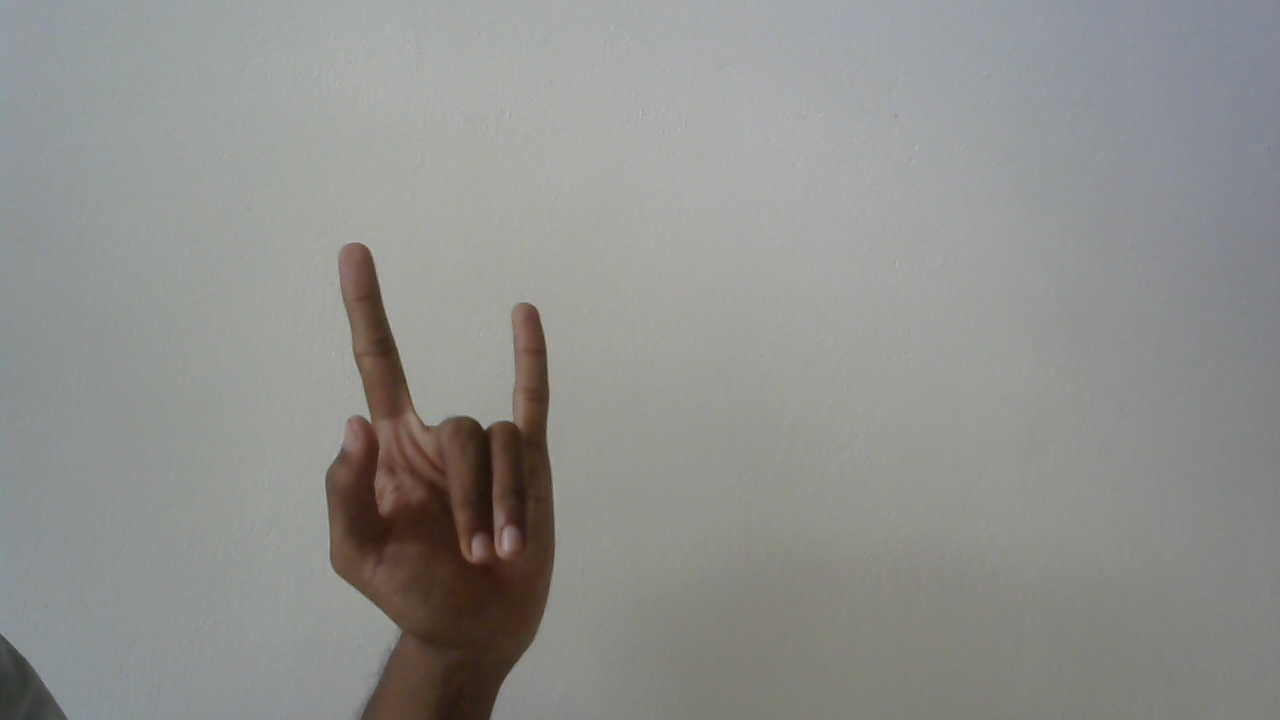iloveyou: (304, 231, 580, 676)
